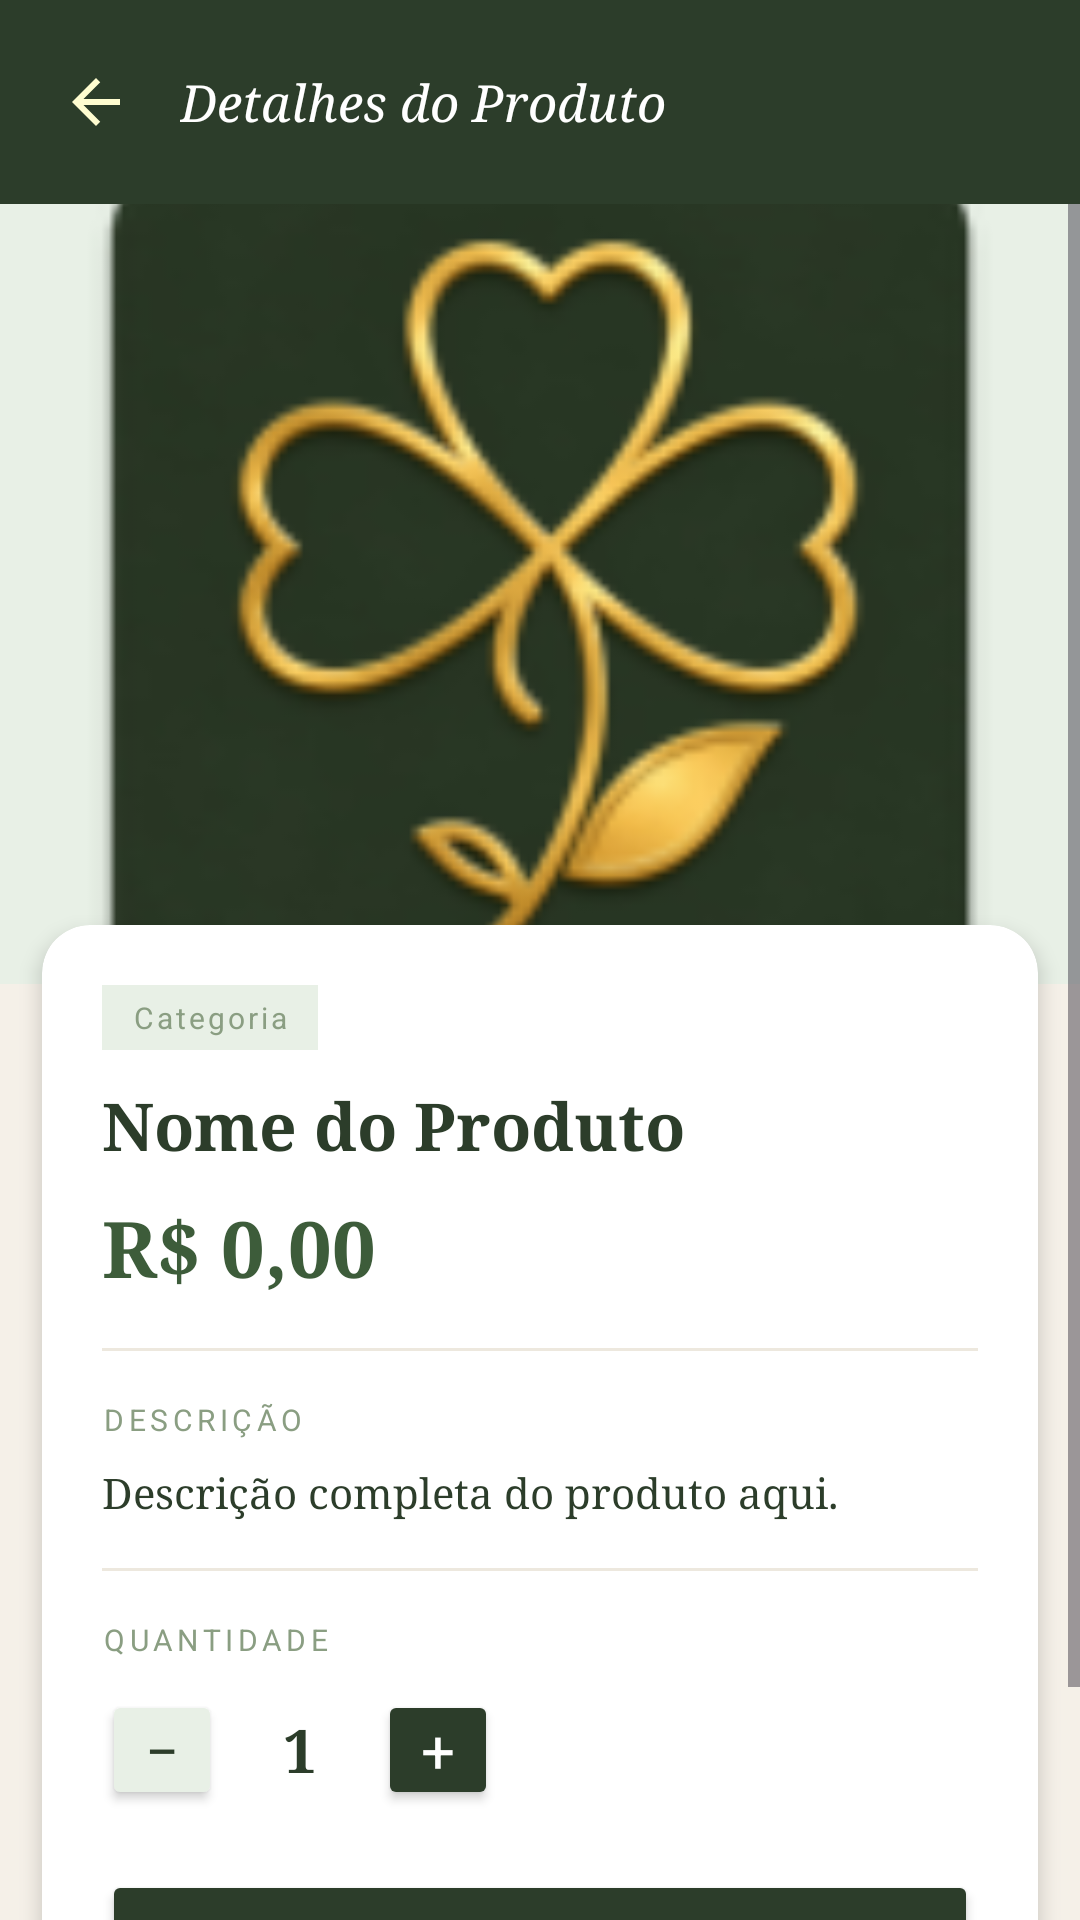

Named icons in this screenshot (1080px×1920px) and their bounding boxes, (x1, y1, x2, y2):
Voltar: (72, 78, 120, 126)
